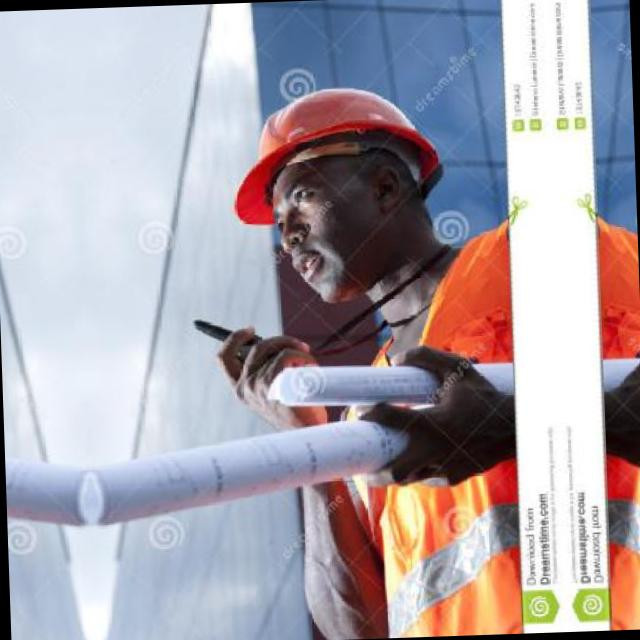helmet: (204, 62, 466, 309)
